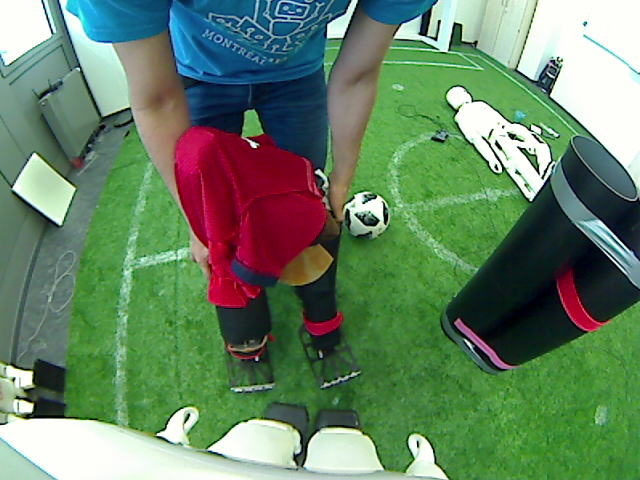ball: (353, 194, 380, 236)
goalpost: (436, 14, 451, 54)
robot: (262, 335, 322, 388), (469, 304, 500, 372), (23, 358, 75, 393), (521, 149, 552, 188)
